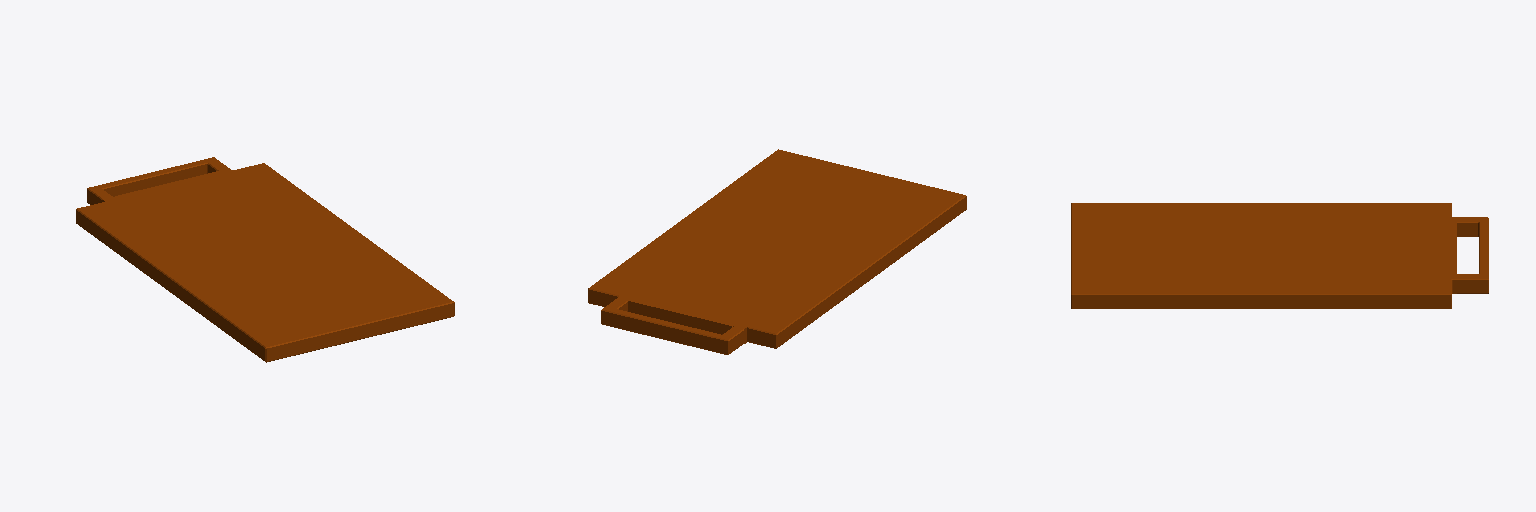
File: cuttingBoard.obj
3 views of the same model, side by side, from view 1: azimuth 30°, elevation 25°; view 2: azimuth 150°, elevation 25°; view 3: azimuth 270°, elevation 25° (orthographic).
Parts seen in each view (by area): view 1: pCube1; view 2: pCube1; view 3: pCube1.
Part boxes in pixels (x1,y1,x2,y2): pCube1: (76,157,454,362); pCube1: (588,149,966,354); pCube1: (1071,203,1488,308).
Bounding box in the file's own units: 4.02 × 0.3092 × 7.68.